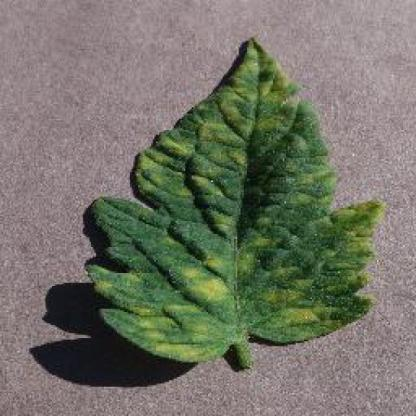Tomato_Leaf_Mold: (85, 37, 383, 362)
